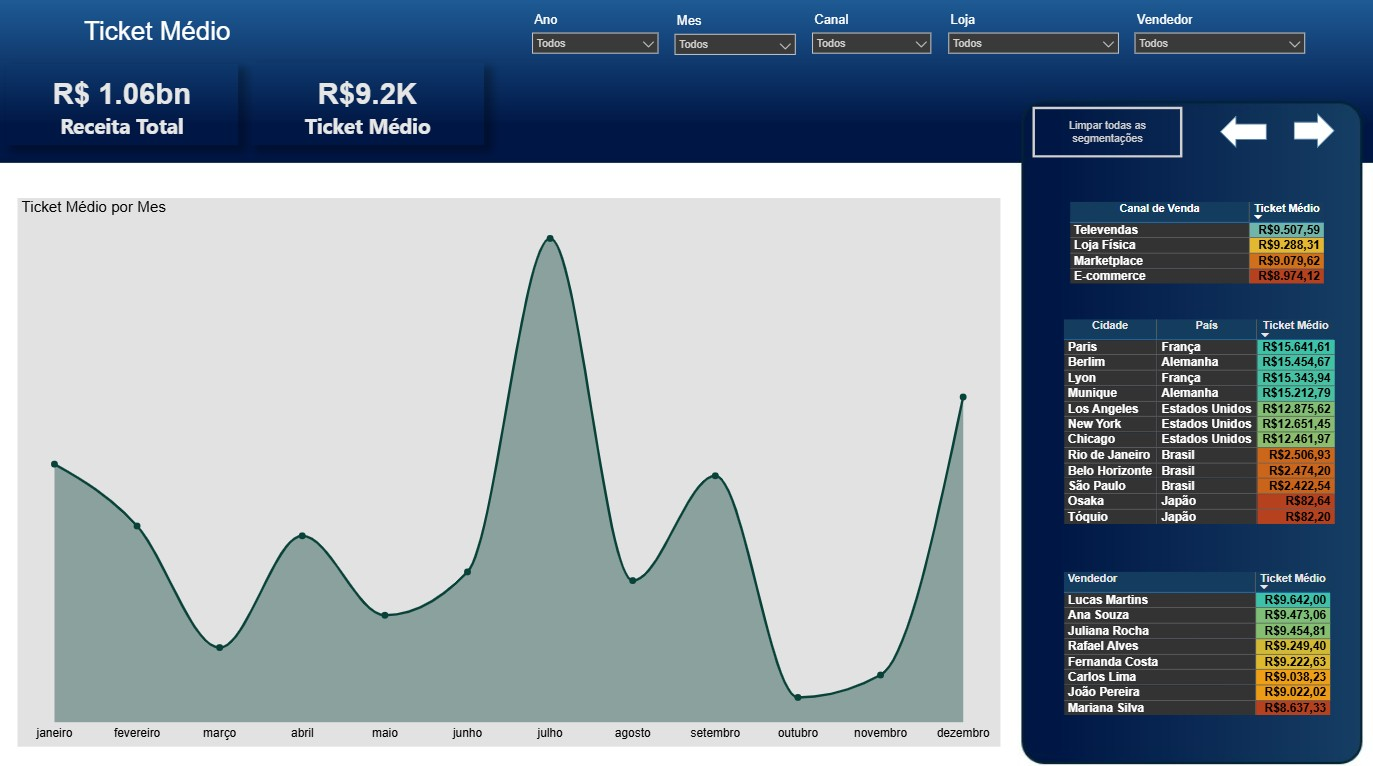

The page's visual inventory and layout, read from the dashboard file:
{"tool":"powerbi","page":{"name":"Ticket Médio","canvas":[1700,950],"ordinal":1},"visuals":[{"type":"tableEx","title":"Ticket médio por canal de venda","fields":{"Values":["d_canal.canal_de_venda","Medidas.Ticket Médio"]},"box":[1317.2,246.8,332,123.4],"z":0},{"type":"tableEx","title":"Ticket Médio por Cidade","fields":{"Values":["d_localizacao.cidade","d_localizacao.pais","Medidas.Ticket Médio"]},"box":[1308.7,391.5,349,276.7],"z":1000},{"type":"stackedAreaChart","fields":{"Category":["d_Calendario.Mes"],"Y":["Medidas.Ticket Médio"]},"box":[27.8,245.4,1209.6,675.3],"z":2000},{"type":"tableEx","title":"Ticket Médio por Cidade","fields":{"Values":["d_vendedor.nome_vendedor","Medidas.Ticket Médio"]},"box":[1309.3,700.8,348.6,190.4],"z":3000},{"type":"advanceCardE03760C5AB684758B56AA29F9E6C257B","fields":{"mainMeasure":["Medidas.Receita Total"]},"box":[13.9,81.8,285.4,99.2],"z":4000},{"type":"advanceCardE03760C5AB684758B56AA29F9E6C257B","fields":{"mainMeasure":["Medidas.Ticket Médio"]},"box":[315,80.1,287.2,100.9],"z":5000},{"type":"slicer","fields":{"Values":["d_tempo.ano"]},"box":[650.9,12.2,175.8,88.8],"z":6000},{"type":"slicer","fields":{"Values":["d_Calendario.Mes"]},"box":[826.7,13.9,168.8,90.5],"z":7000},{"type":"slicer","fields":{"Values":["d_canal.canal_de_venda"]},"box":[995.5,12.2,167.1,88.8],"z":8000},{"type":"slicer","fields":{"Values":["d_loja.nome_loja"]},"box":[1162.6,12.2,229.7,88.8],"z":9000},{"type":"slicer","fields":{"Values":["d_vendedor.nome_vendedor"]},"box":[1392.3,12.2,229.7,87],"z":10000},{"type":"textbox","box":[104.4,19.1,355,74.8],"z":11000},{"type":"shape","box":[1507.2,144.5,57.4,40],"z":12000},{"type":"shape","box":[1597.7,141,50.5,43.5],"z":13000},{"type":"actionButton","box":[1277.4,134,184.5,62.7],"z":14000}]}

Visuals, with their boxes in screenshot pixels (x1, y1, x2, y2), scaled from the page's 1700x950 canvas onto the 1373x766 screenshot:
"Ticket médio por canal de venda" tableEx: left=1064, top=199, right=1332, bottom=298
"Ticket Médio por Cidade" tableEx: left=1057, top=316, right=1339, bottom=539
stackedAreaChart - d_Calendario.Mes x Medidas.Ticket Médio: left=22, top=198, right=999, bottom=742
"Ticket Médio por Cidade" tableEx: left=1057, top=565, right=1339, bottom=719
advanceCardE03760C5AB684758B56AA29F9E6C257B - Medidas.Receita Total: left=11, top=66, right=242, bottom=146
advanceCardE03760C5AB684758B56AA29F9E6C257B - Medidas.Ticket Médio: left=254, top=65, right=486, bottom=146
slicer - d_tempo.ano: left=526, top=10, right=668, bottom=81
slicer - d_Calendario.Mes: left=668, top=11, right=804, bottom=84
slicer - d_canal.canal_de_venda: left=804, top=10, right=939, bottom=81
slicer - d_loja.nome_loja: left=939, top=10, right=1124, bottom=81
slicer - d_vendedor.nome_vendedor: left=1124, top=10, right=1310, bottom=80
textbox: left=84, top=15, right=371, bottom=76
shape: left=1217, top=117, right=1264, bottom=149
shape: left=1290, top=114, right=1331, bottom=149
actionButton: left=1032, top=108, right=1181, bottom=159
